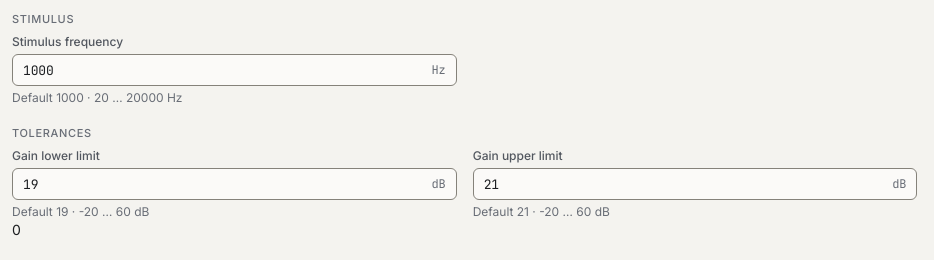
it: ParameterForm › rejects non-numeric and empty input
The image size is (934, 260).
Clear the field labelled "Stimulus frequency" at (222, 70), box left=13, top=55, right=432, bottom=85
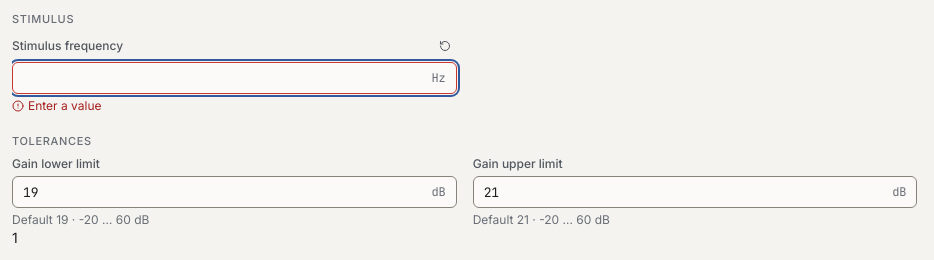
Check: the text "Enter a value" is shown, box left=28, top=98, right=102, bottom=114
Type "abc" into the field labelled "Stimulus frequency" at (222, 78), box left=13, top=63, right=432, bottom=93
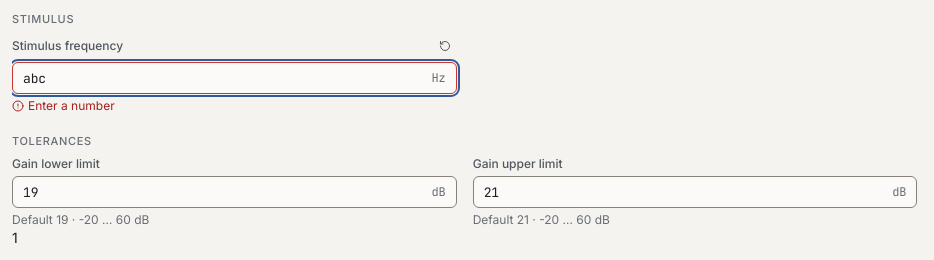
Check: the text "Enter a number" is shown, box left=28, top=98, right=115, bottom=114
